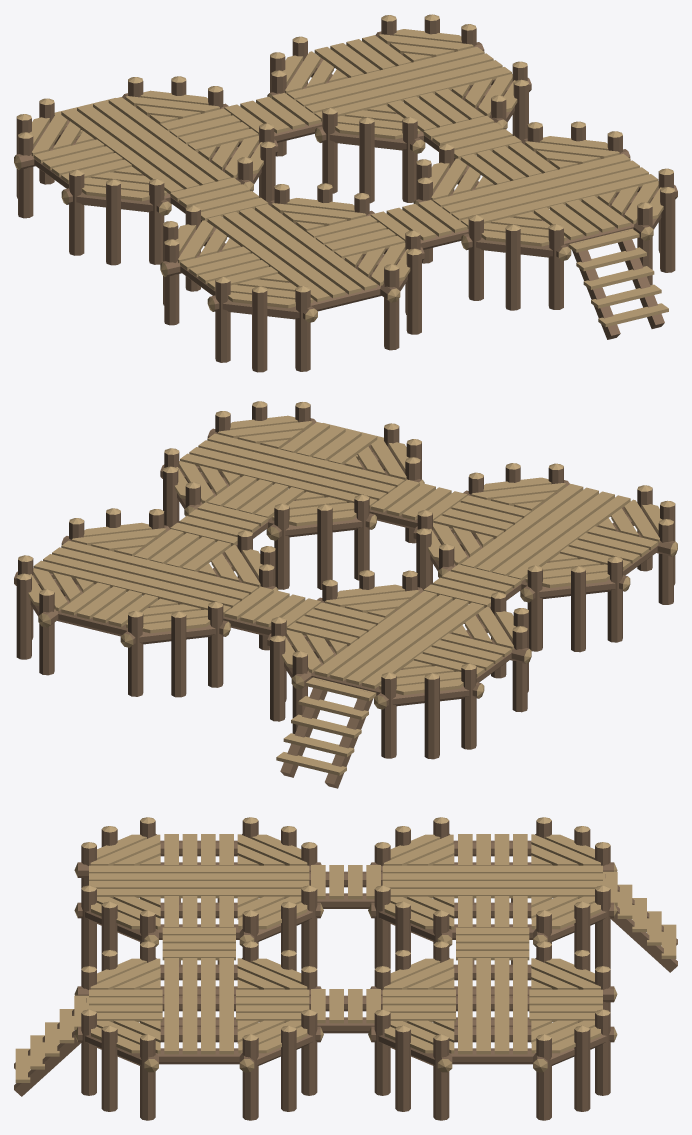
The model's file is WoodenPlatformThree.fbx.
3 renders of one model, top to bottom at view 1: azimuth 30°, elevation 25°; view 2: azimuth 150°, elevation 25°; view 3: azimuth 270°, elevation 25°, orthographic.
Visible parts, largest first — view 1: mergedBlocks; view 2: mergedBlocks; view 3: mergedBlocks.
Boxes of the visible parts, x1,y1,x2,y2 form: mergedBlocks: [14, 14, 677, 372]; mergedBlocks: [14, 401, 677, 788]; mergedBlocks: [14, 817, 677, 1120].
Bounding box in the file's own units: 74 × 14.44 × 90.48.
